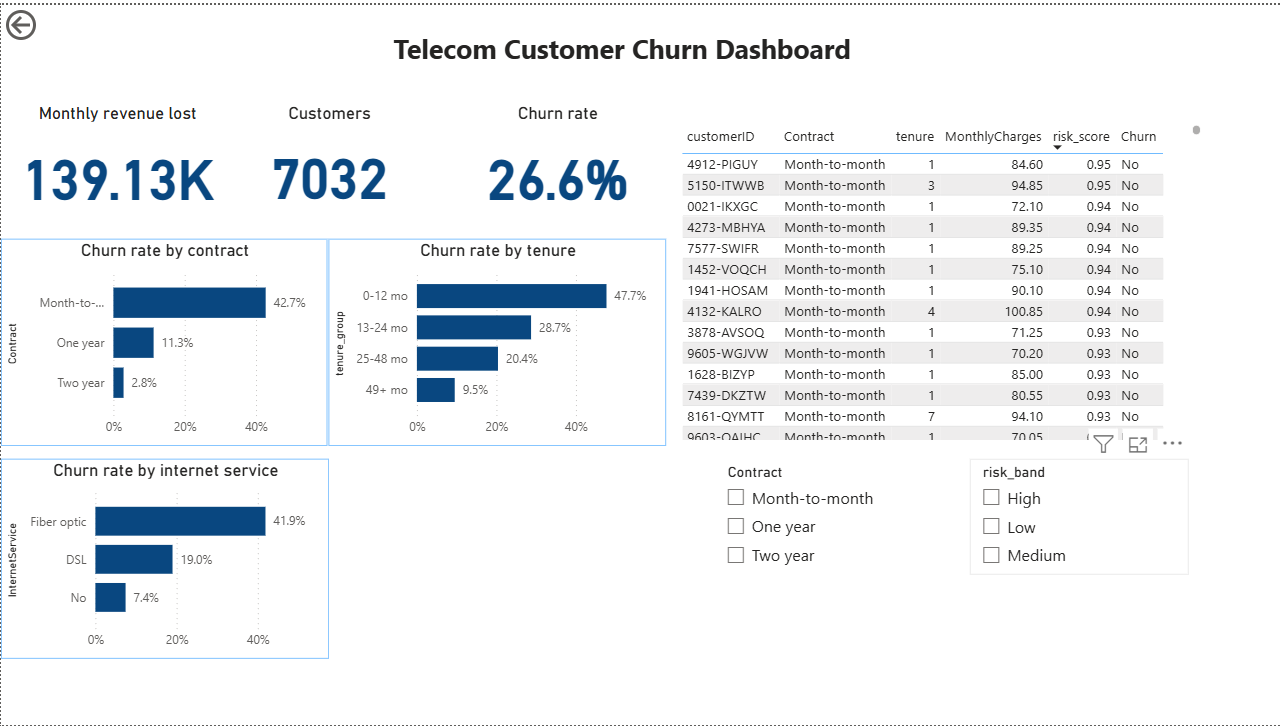

This screenshot's page, from the dashboard's own definition file:
{"tool":"powerbi","page":{"name":"Page 1","canvas":[1280,720],"ordinal":0},"visuals":[{"type":"card","title":"Monthly revenue lost","fields":{"Values":["churn_dashboard_data.Revenue Lost"]},"box":[0,97.4,233.3,122.1],"z":0},{"type":"card","title":"Customers","fields":{"Values":["CountNonNull(churn_dashboard_data.customerID)"]},"box":[204.5,97.4,247,120.8],"z":1},{"type":"card","title":"Churn rate","fields":{"Values":["Avg(churn_dashboard_data.Churn_num)"]},"box":[438.8,97.5,236.2,121.2],"z":2},{"type":"clusteredBarChart","title":"Churn rate by contract","fields":{"Category":["churn_dashboard_data.Contract"],"Y":["Avg(churn_dashboard_data.Churn_num)"]},"box":[0,233.3,326.6,207.2],"z":3},{"type":"clusteredBarChart","title":"Churn rate by tenure","fields":{"Category":["churn_dashboard_data.tenure_group","churn_dashboard_data.InternetService"],"Y":["Avg(churn_dashboard_data.Churn_num)"]},"box":[328,233.3,337.6,207.2],"z":4},{"type":"clusteredBarChart","title":"Churn rate by internet service","fields":{"Y":["Avg(churn_dashboard_data.Churn_num)"],"Category":["churn_dashboard_data.InternetService"]},"box":[0,454.2,328,200.3],"z":5},{"type":"textbox","box":[387.5,20,481.2,60],"z":6},{"type":"tableEx","fields":{"Values":["churn_dashboard_data.customerID","churn_dashboard_data.Contract","churn_dashboard_data.tenure","churn_dashboard_data.MonthlyCharges","churn_dashboard_data.risk_score","churn_dashboard_data.Churn"]},"box":[675.1,115.3,529.7,325.2],"z":7},{"type":"actionButton","box":[0,0,100,40],"z":8},{"type":"slicer","fields":{"Values":["churn_dashboard_data.Contract"]},"box":[713.6,454.2,193.5,200.3],"z":9},{"type":"slicer","fields":{"Values":["churn_dashboard_data.risk_band"]},"box":[968.8,454.2,218.2,115.3],"z":10}]}

Visuals, with their boxes in screenshot pixels (x1, y1, x2, y2), scaled from the page's 1280x720 canvas onto the 1280x726 screenshot:
"Monthly revenue lost" card: region(0, 98, 233, 221)
"Customers" card: region(204, 98, 452, 220)
"Churn rate" card: region(439, 98, 675, 221)
"Churn rate by contract" clusteredBarChart: region(0, 235, 327, 444)
"Churn rate by tenure" clusteredBarChart: region(328, 235, 666, 444)
"Churn rate by internet service" clusteredBarChart: region(0, 458, 328, 660)
textbox: region(388, 20, 869, 81)
tableEx - churn_dashboard_data.customerID x churn_dashboard_data.Contract: region(675, 116, 1205, 444)
actionButton: region(0, 0, 100, 40)
slicer - churn_dashboard_data.Contract: region(714, 458, 907, 660)
slicer - churn_dashboard_data.risk_band: region(969, 458, 1187, 574)
